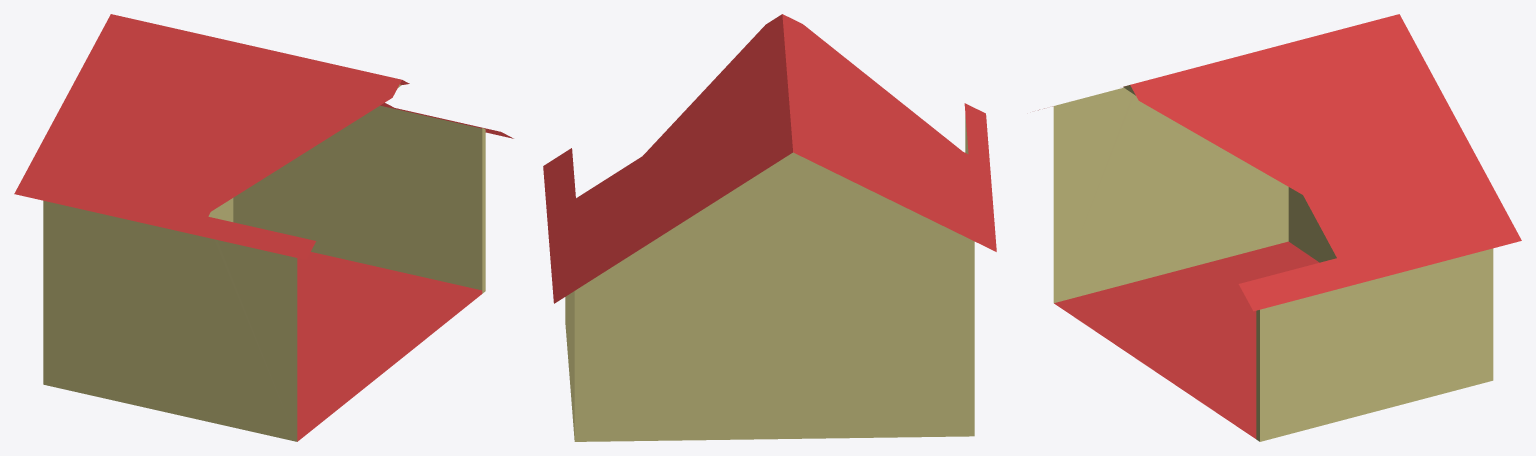
3 views of the same model, side by side, from view 1: azimuth 30°, elevation 25°; view 2: azimuth 150°, elevation 25°; view 3: azimuth 270°, elevation 25° (orthographic). The views are drawn at different scales.
Bounding box in the file's own units: 25.6 × 23.94 × 15.21.
